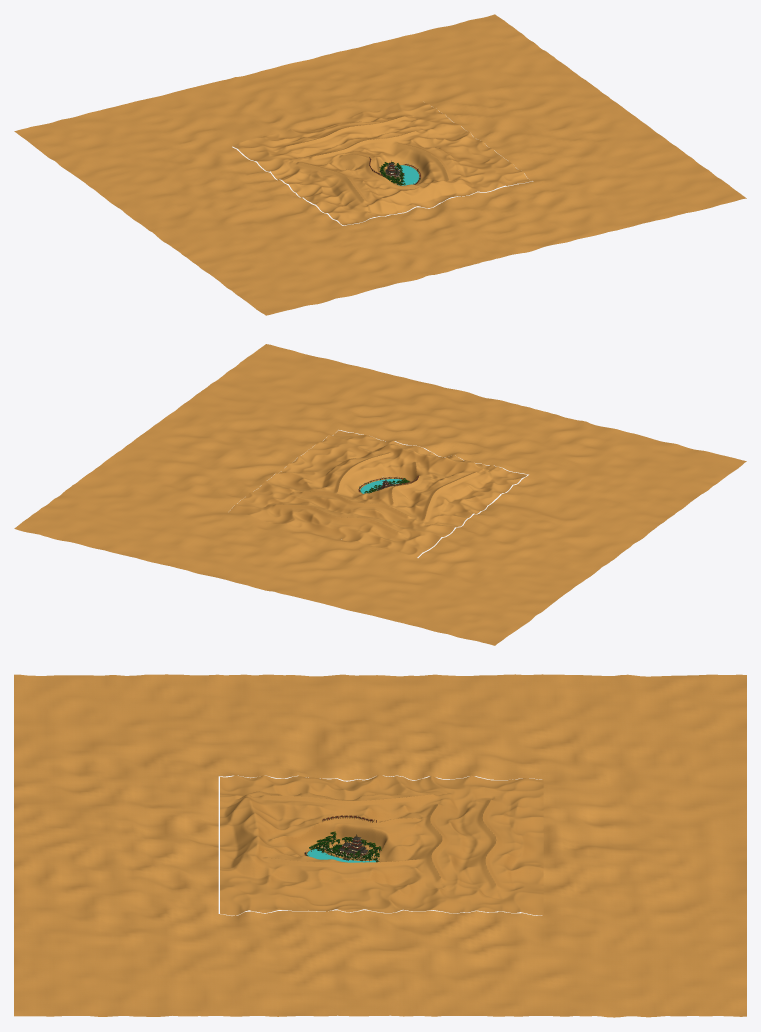
Rendered from dunhuang_hero_stage.glb.
3 views of the same model, one above another, from view 1: azimuth 30°, elevation 25°; view 2: azimuth 150°, elevation 25°; view 3: azimuth 270°, elevation 25° (orthographic). The views are drawn at different scales.
Visible parts, largest first — view 1: DH_Outer_Desert_DuneSea, DH_Mingsha_SandDunes; view 2: DH_Outer_Desert_DuneSea, DH_Mingsha_SandDunes; view 3: DH_Outer_Desert_DuneSea, DH_Mingsha_SandDunes.
Boxes of the visible parts, box(x1,y1,x2,y2) form: DH_Outer_Desert_DuneSea: box(14, 14, 746, 315); DH_Mingsha_SandDunes: box(232, 100, 531, 225); DH_Outer_Desert_DuneSea: box(14, 344, 746, 645); DH_Mingsha_SandDunes: box(227, 430, 527, 557); DH_Outer_Desert_DuneSea: box(14, 674, 746, 1017); DH_Mingsha_SandDunes: box(220, 775, 543, 915).
Size of the model in its own units: 584 by 21.86 by 530.
19 materials, 15 textured.
